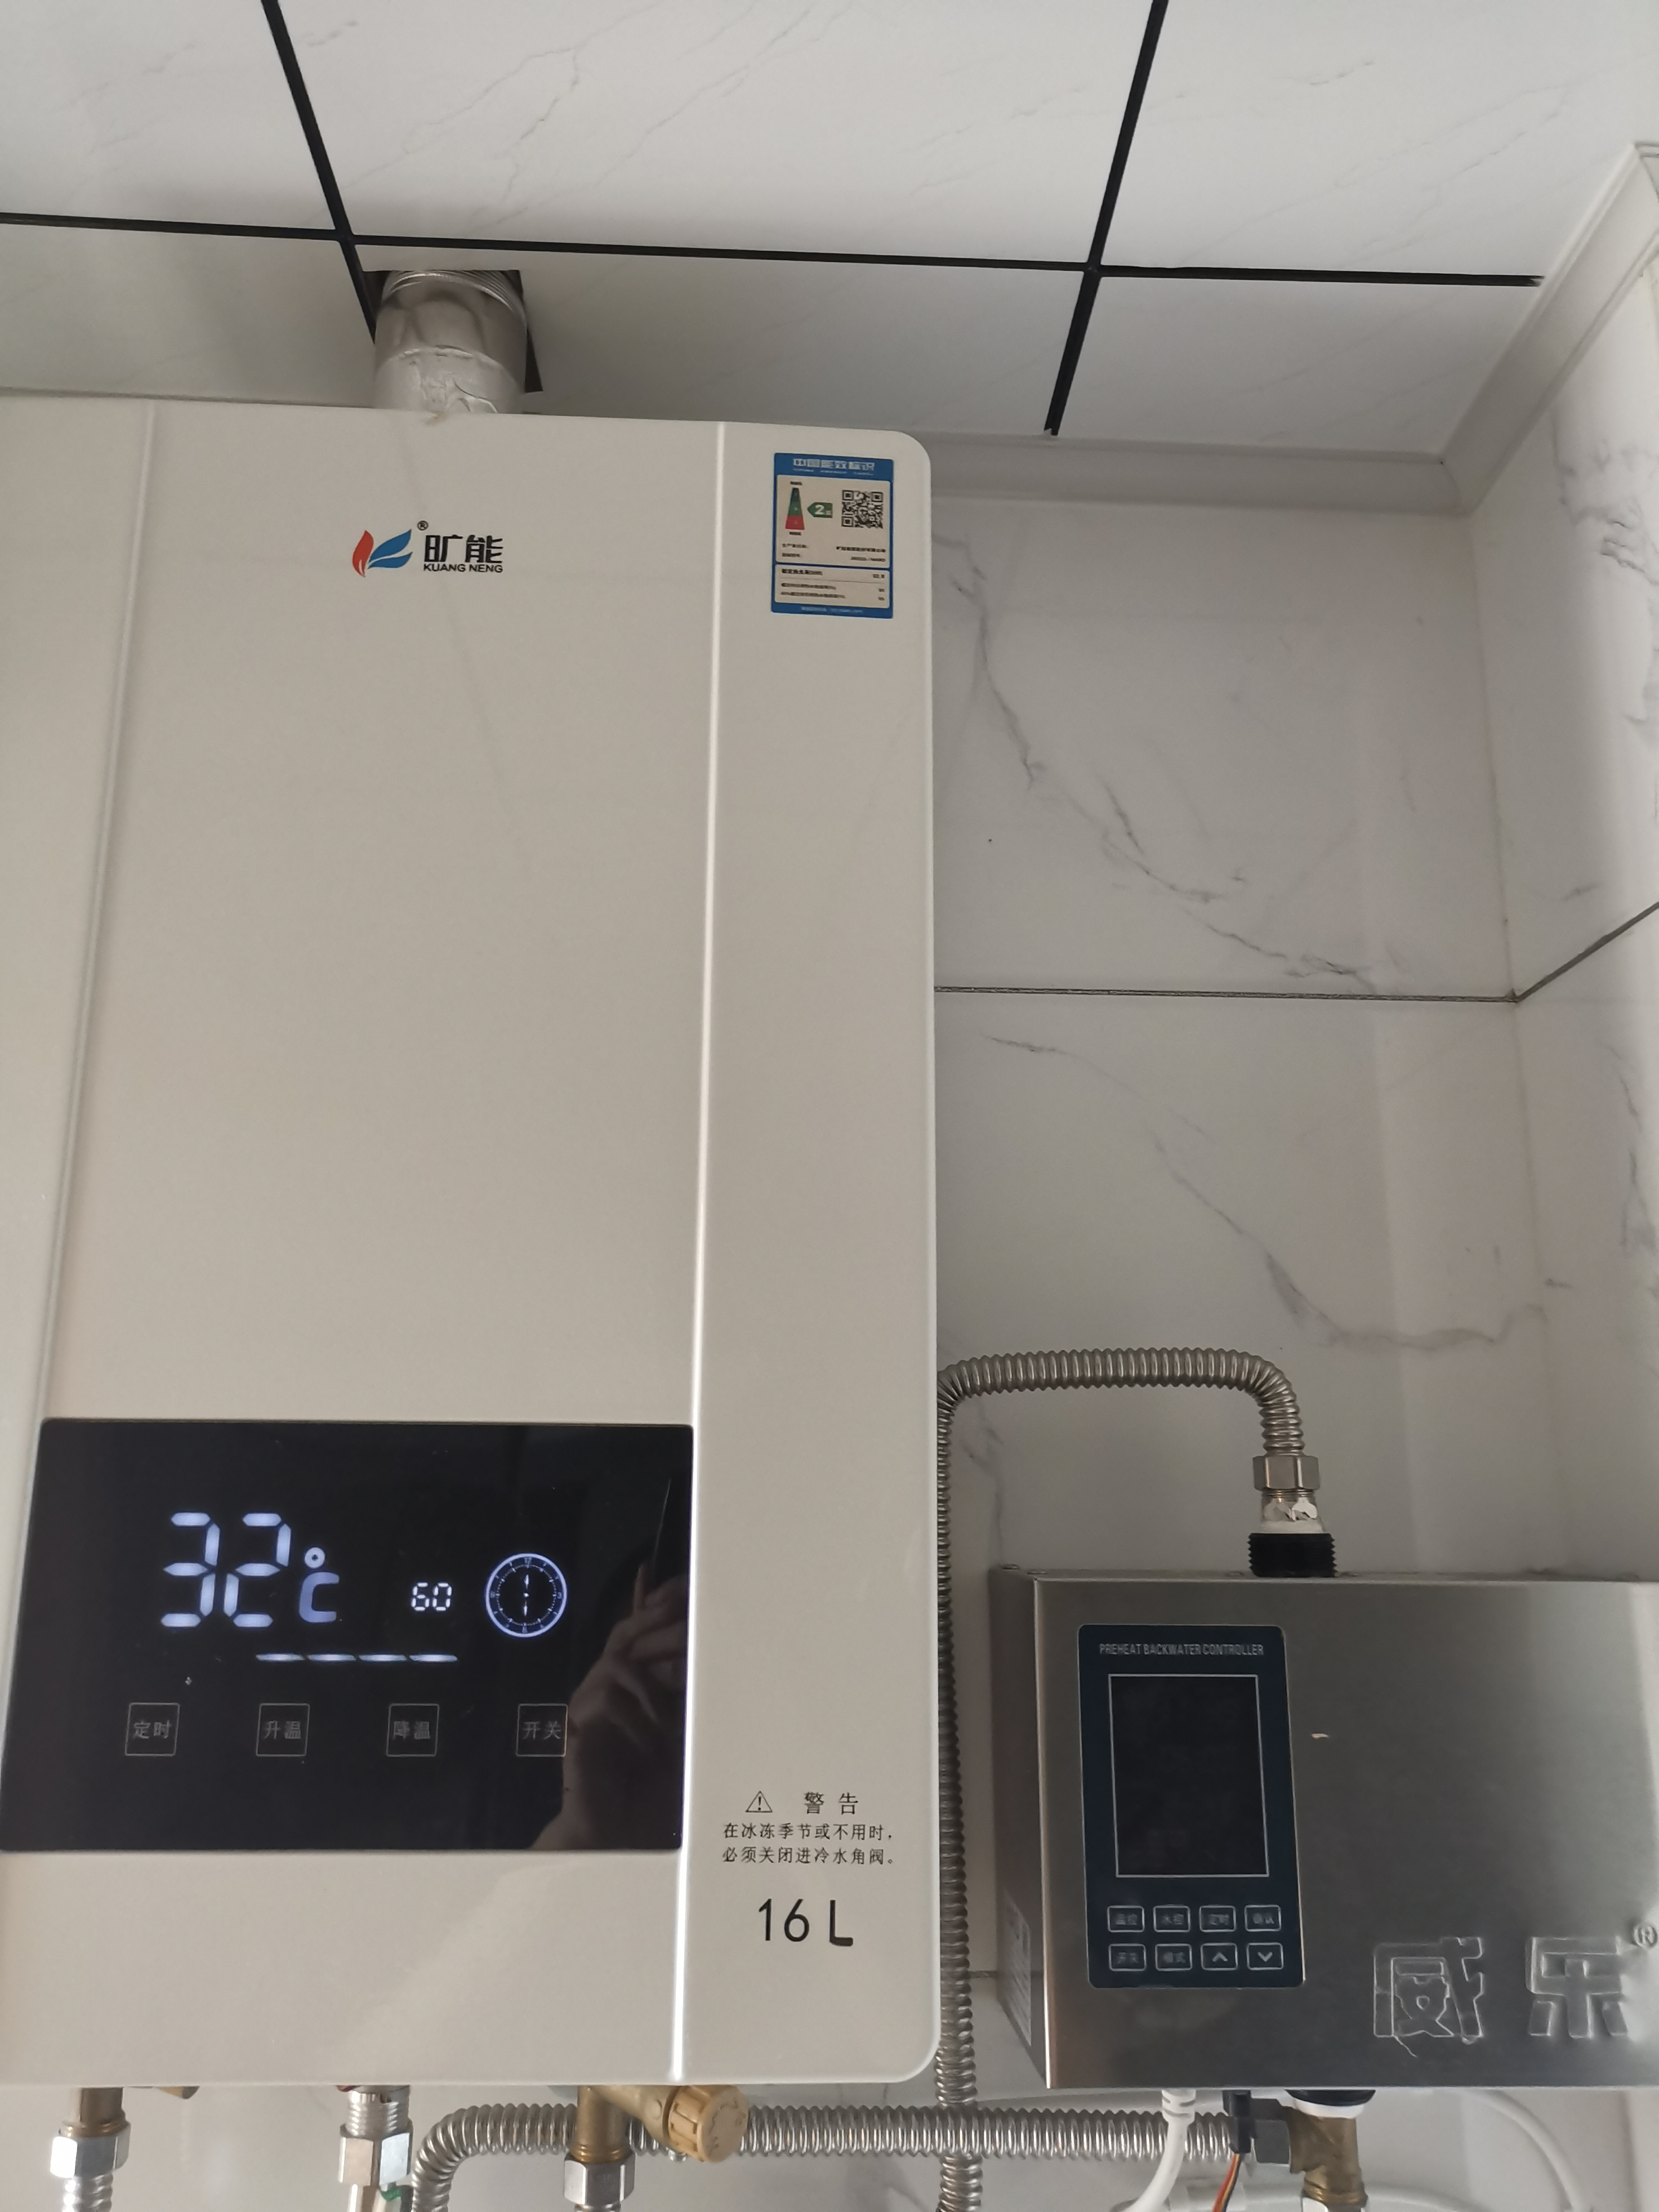loudou: (331, 500, 532, 596)
